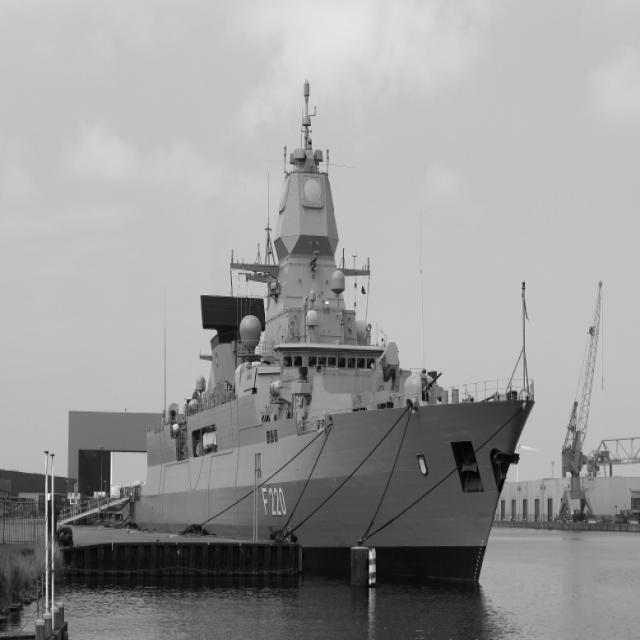Fragata: (117, 73, 546, 598)
